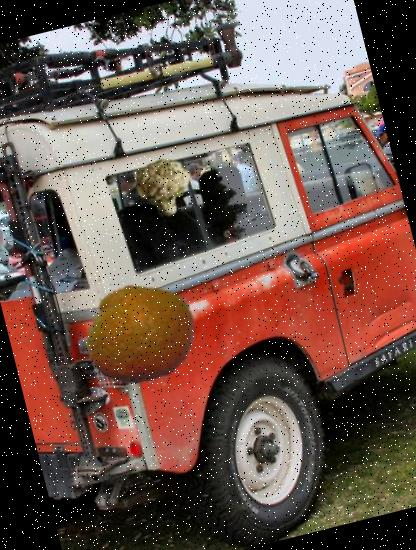Cauliflower: (129, 149, 202, 221)
Mandarine: (73, 266, 208, 401)
